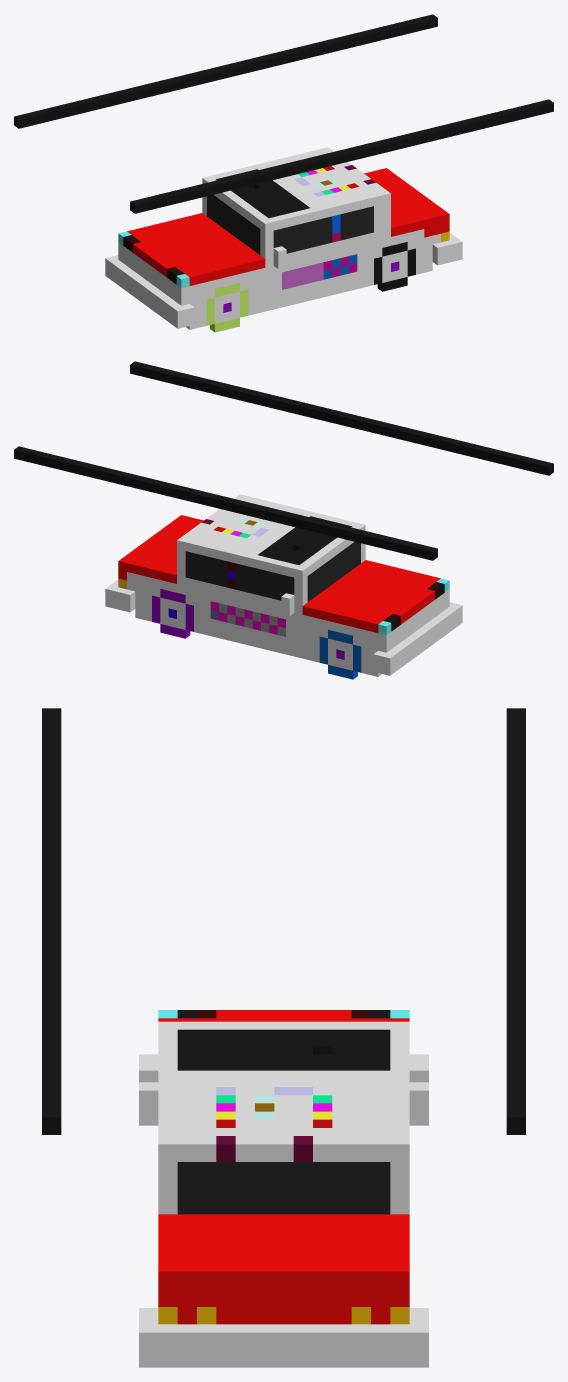
The model's file is car_04.glb.
The picture shows the model from 3 angles, top to bottom: view 1: azimuth 30°, elevation 25°; view 2: azimuth 150°, elevation 25°; view 3: azimuth 270°, elevation 25°; orthographic projection. The views are drawn at different scales.
Visible parts, largest first — view 1: ObjObject; view 2: ObjObject; view 3: ObjObject.
Boxes of the visible parts, x1,y1,x2,y2 form: ObjObject: (14, 14, 553, 332); ObjObject: (14, 361, 553, 679); ObjObject: (42, 708, 525, 1367).
Bounding box in the file's own units: 5 × 2 × 2.5.
Materials: 1 (1 with a texture image).
